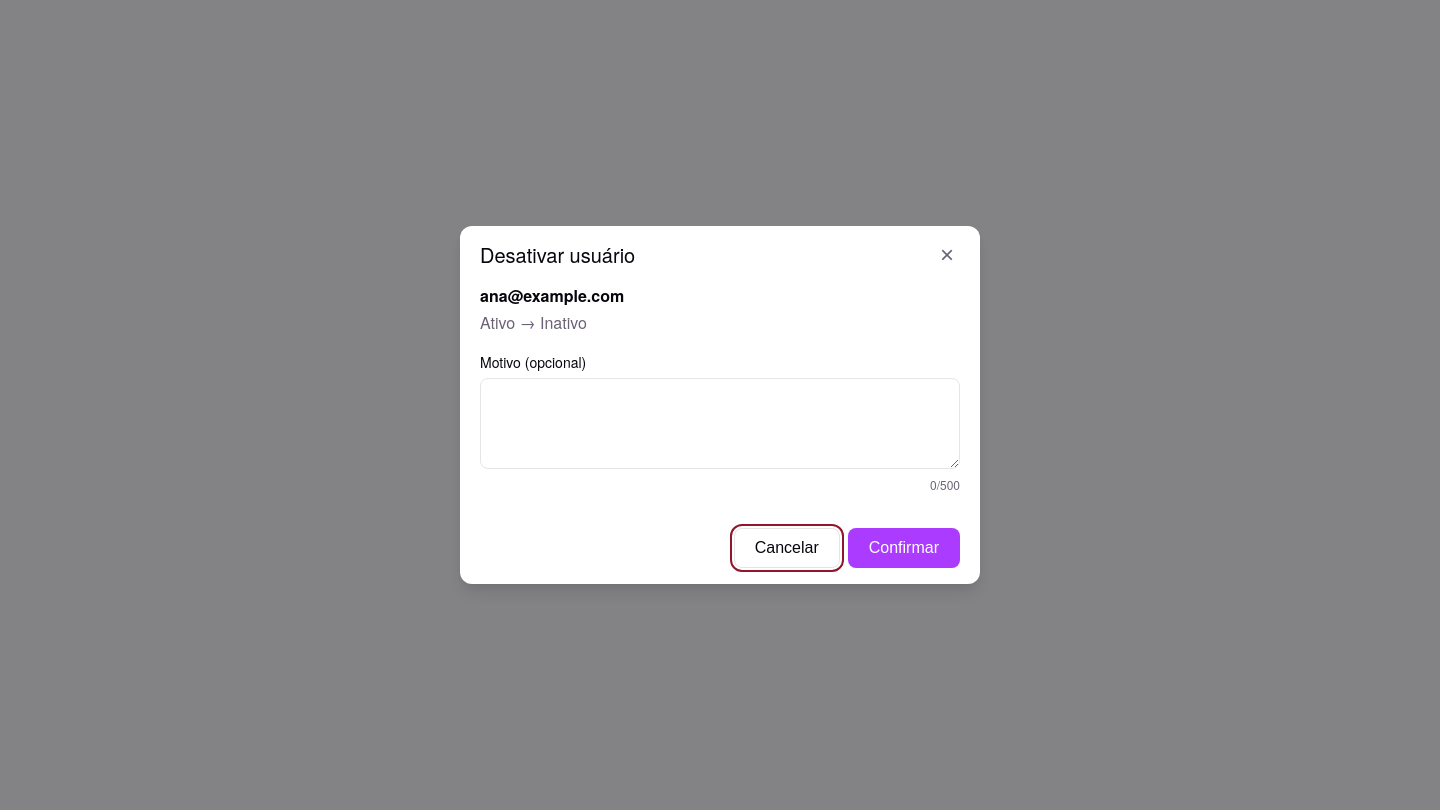
Test: ToggleActiveDialog › invalidates the list when auth_sync_failed happens so the table shows the flipped flag
This screenshot has width=1440, height=810.
Click the button "Confirmar" at (904, 548), box [848, 528, 960, 568]
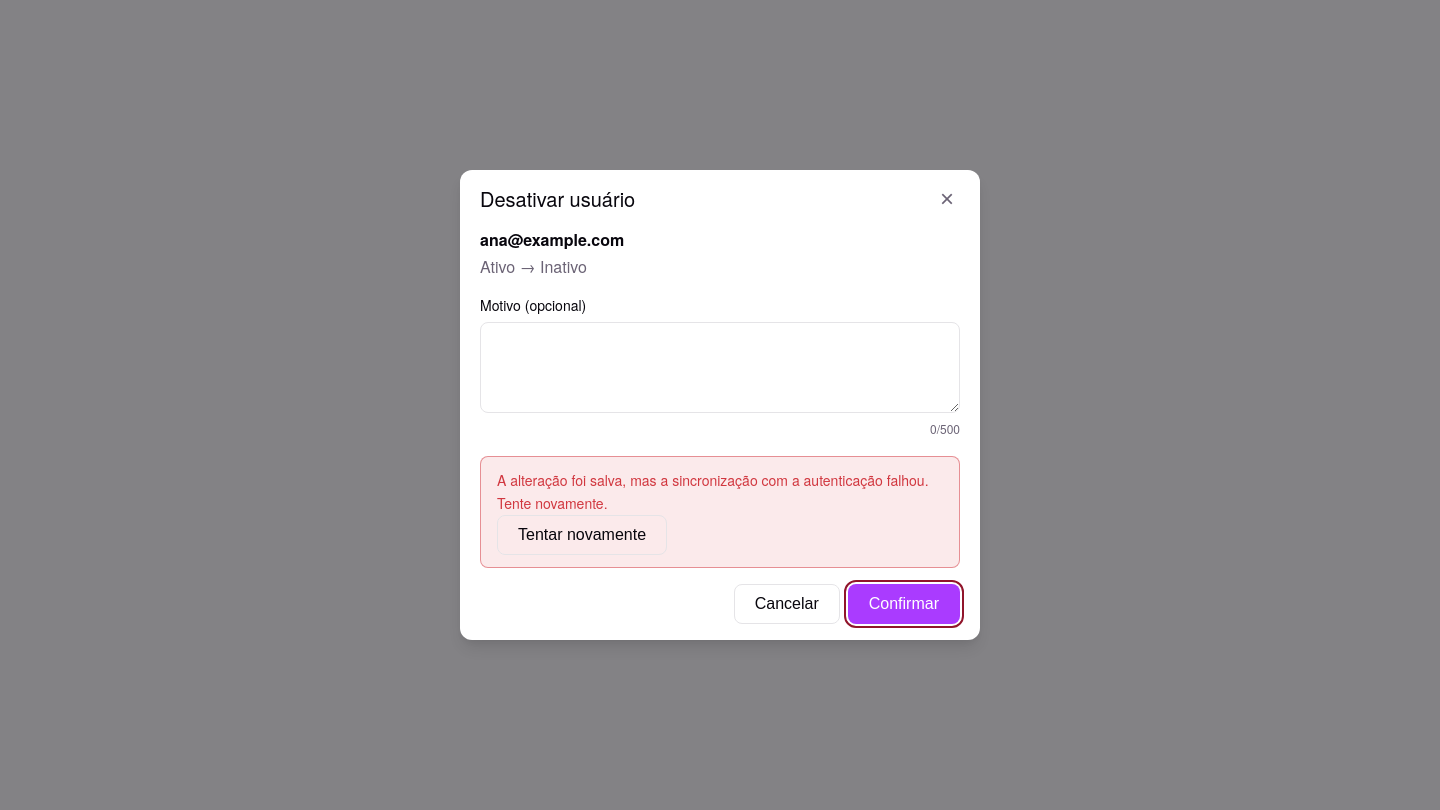
Expected: the button "Tentar novamente" is shown, [497, 515, 667, 555]
